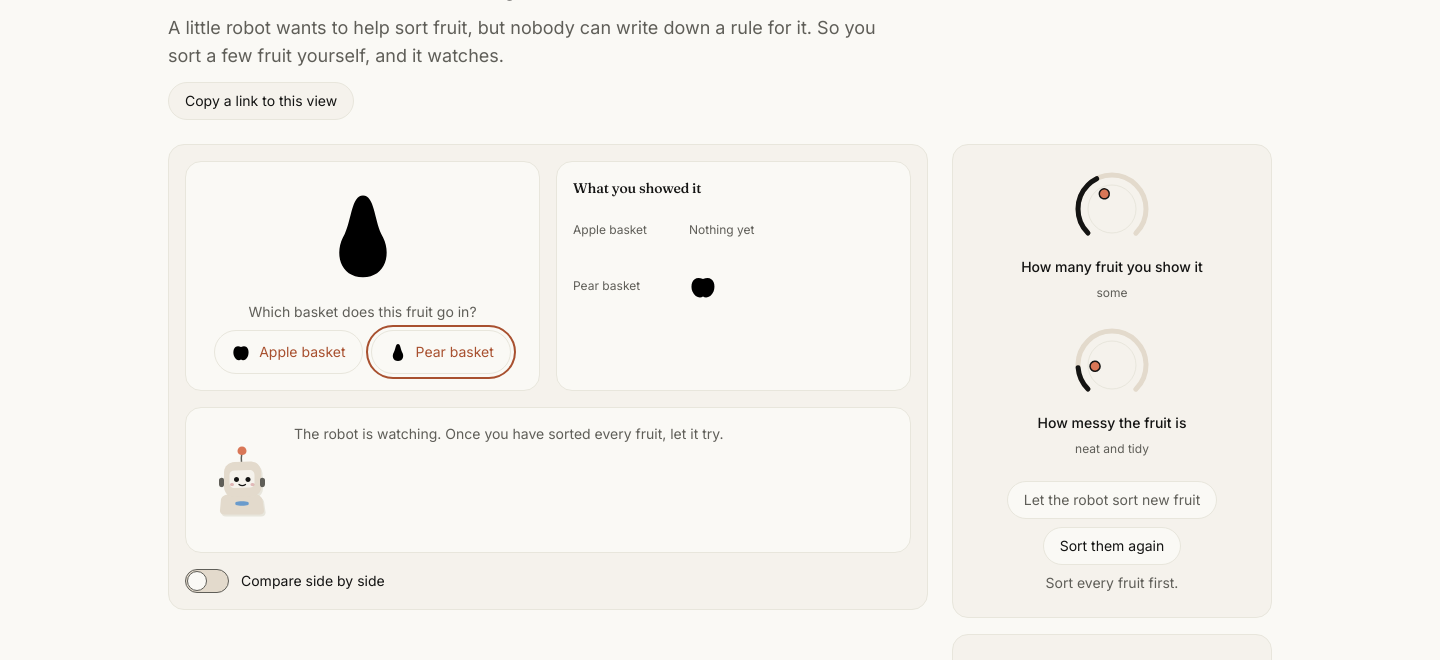
teach by showing: in the lesson › earns the star when wrong labels teach the robot wrong
The image size is (1440, 660).
Earlier steps of the test are not shown.
Click the button "Apple basket" at [288, 352], box [214,330,363,374]
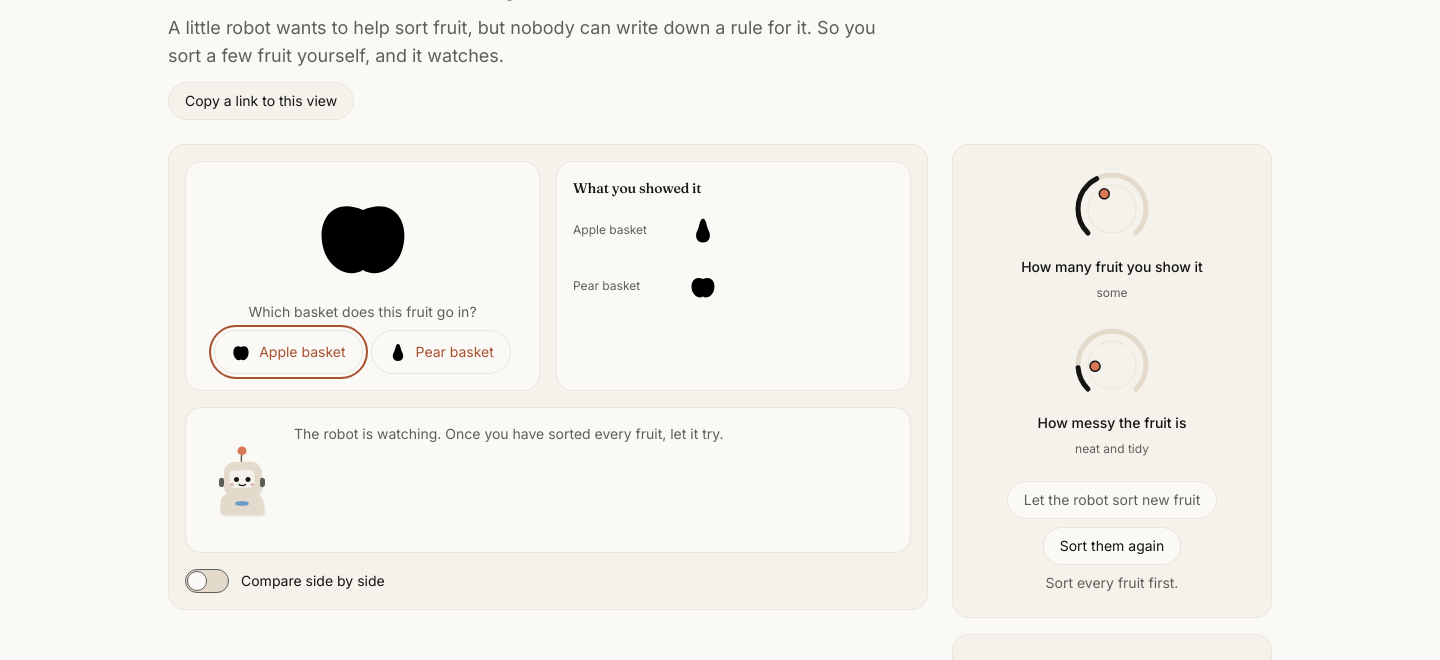
Click the button "Pear basket" at [441, 352], box [370,330,511,374]
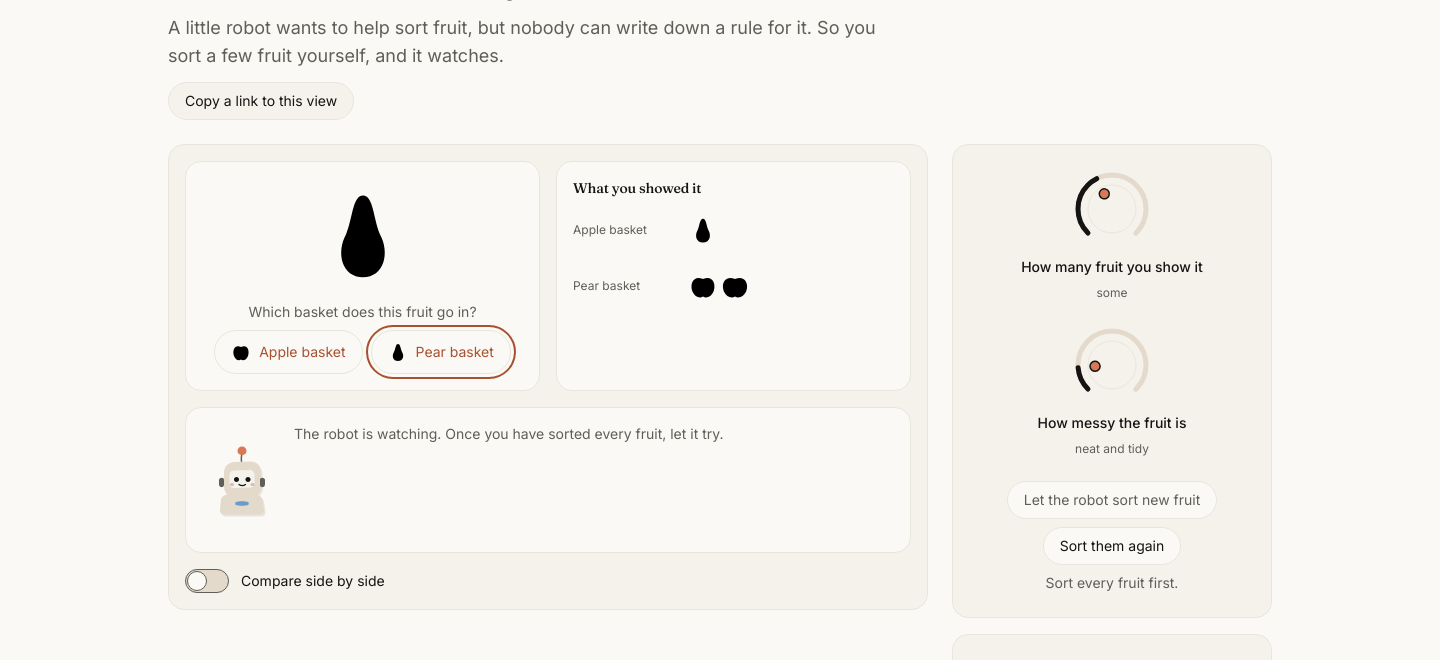
Click the button "Apple basket" at [288, 352], box [214,330,363,374]
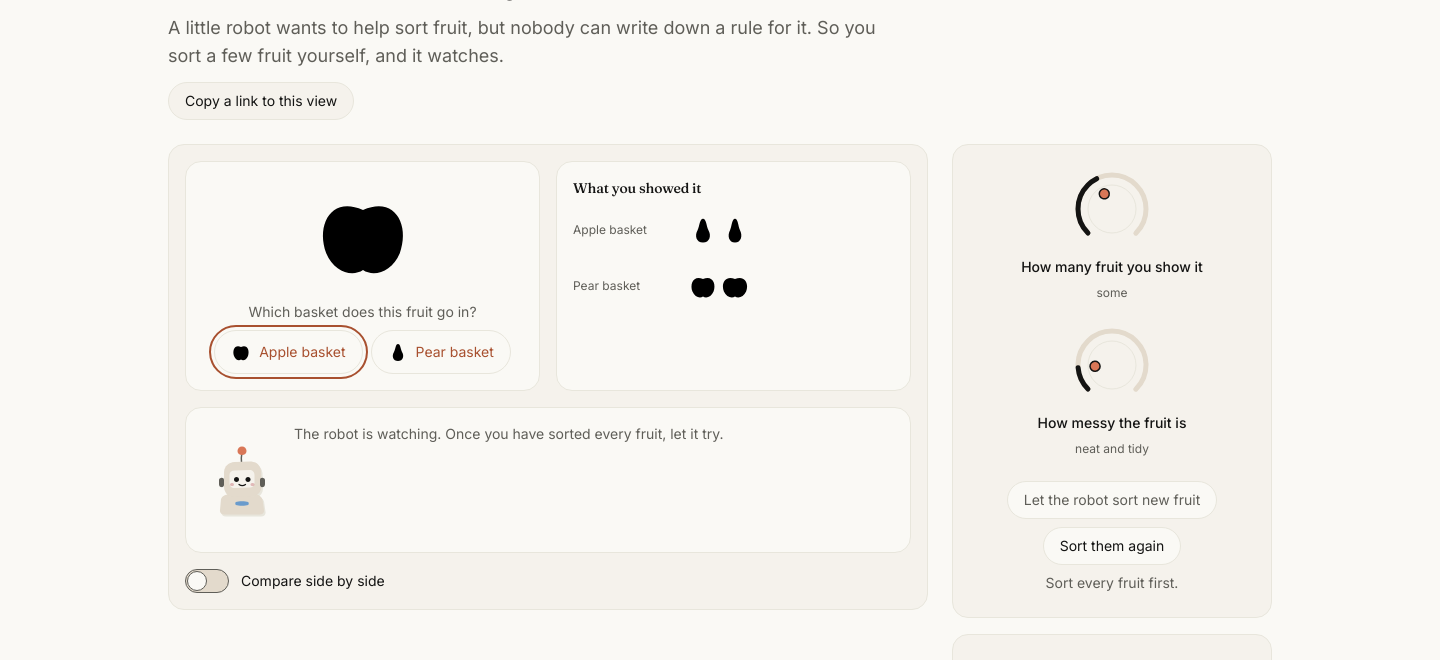
Click the button "Pear basket" at [441, 352], box [370,330,511,374]
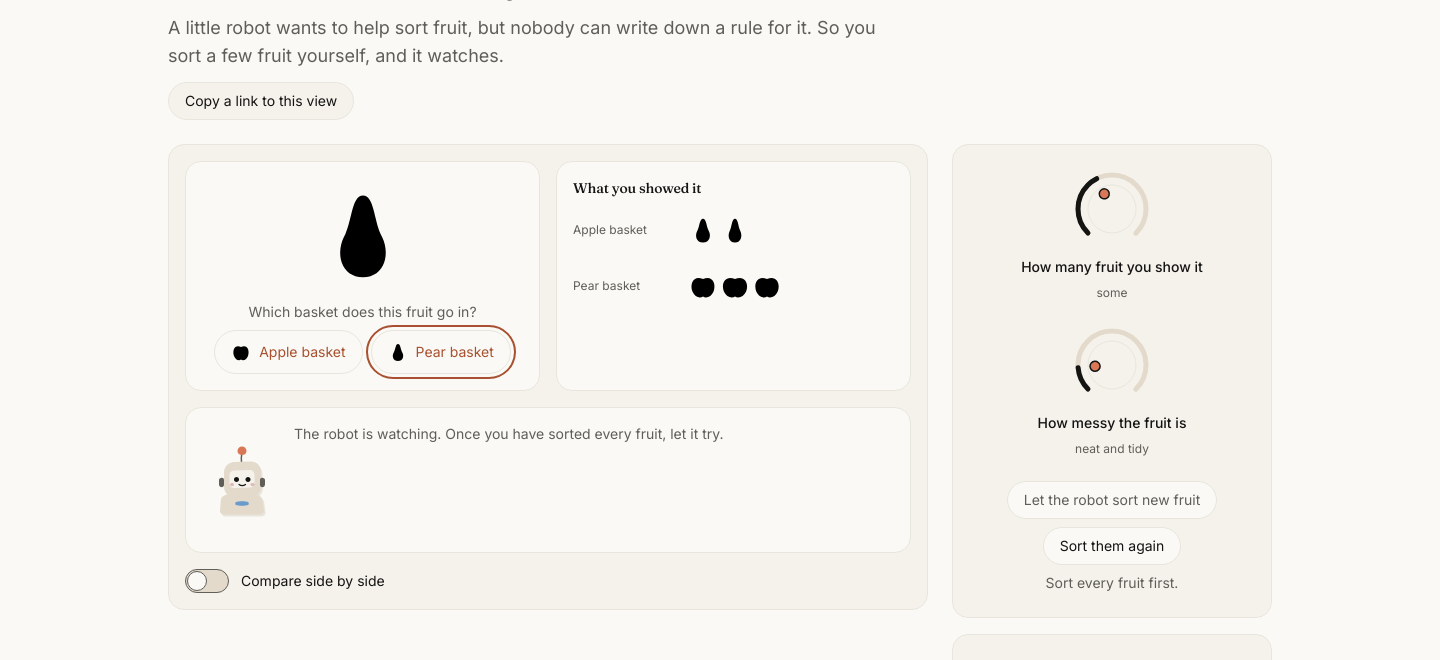
Click the button "Apple basket" at [288, 352], box [214,330,363,374]
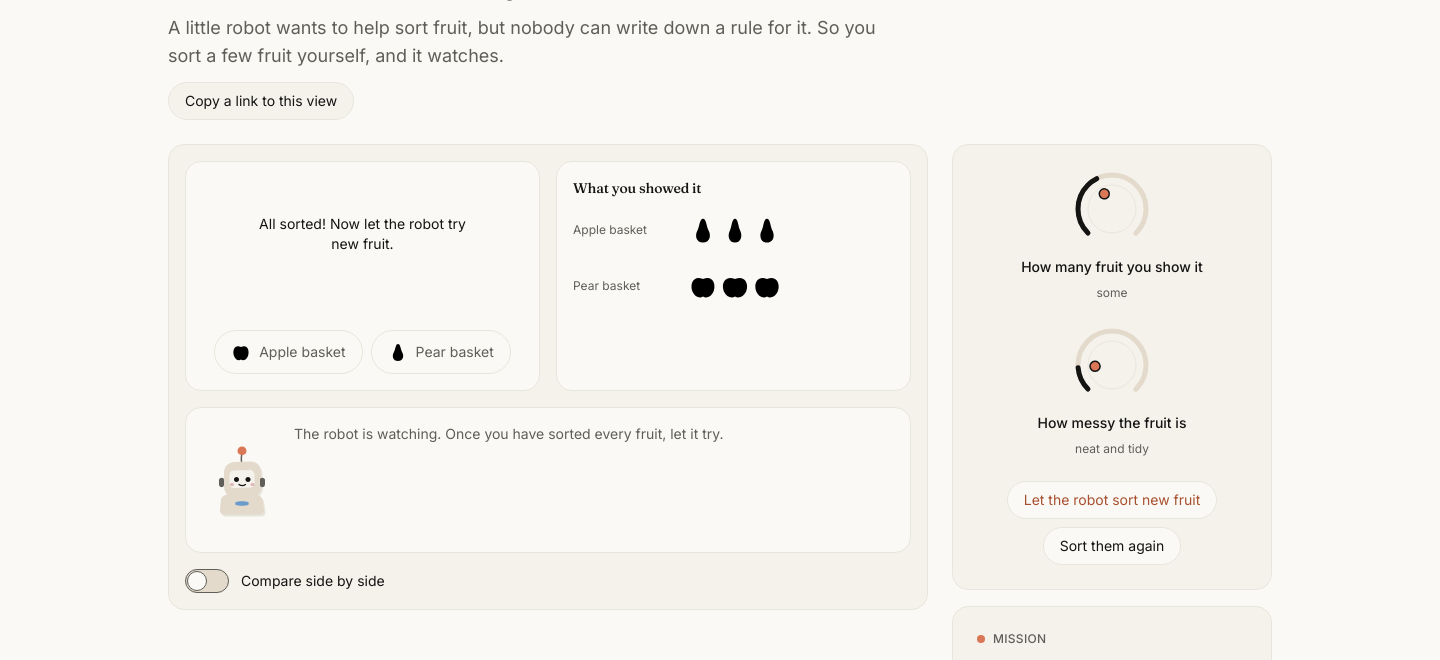
Click the button "Let the robot sort new fruit" at [1112, 500], box [1007,481,1217,519]
(page scrolled)
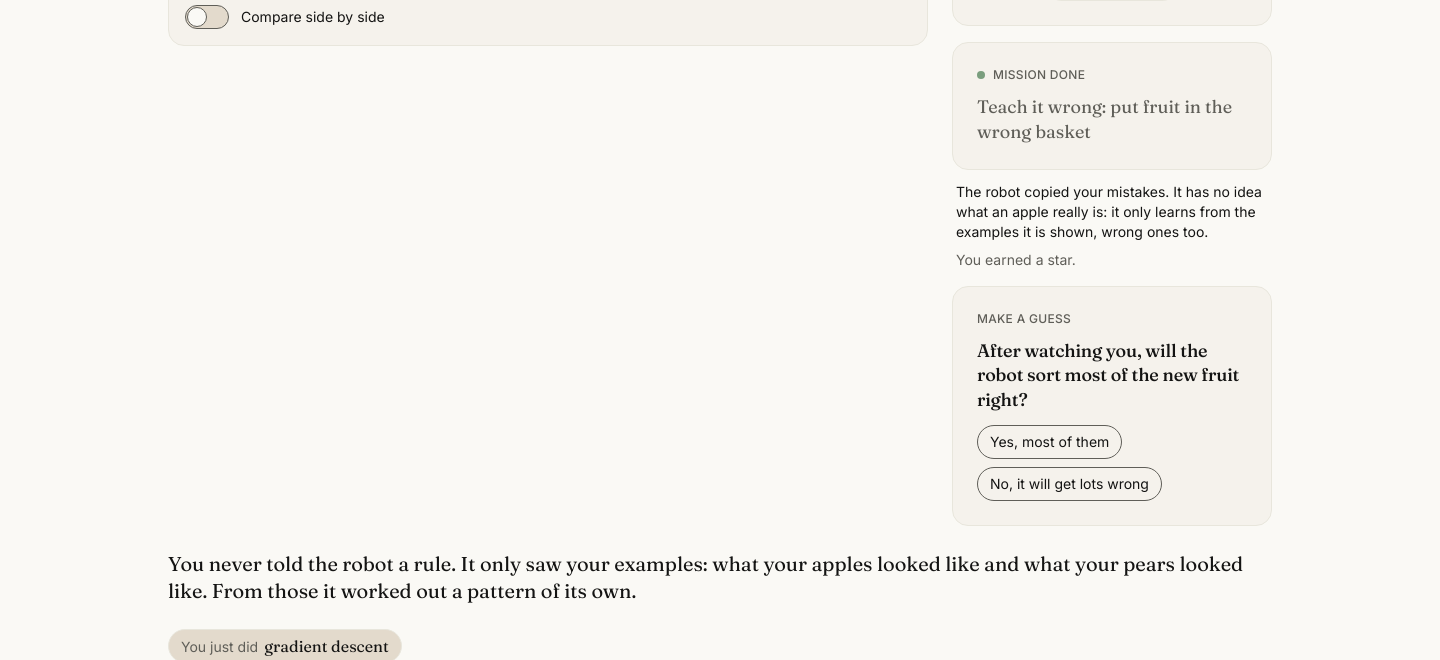
Expected: the text "You earned a star." is shown, [956,250,1076,270]
